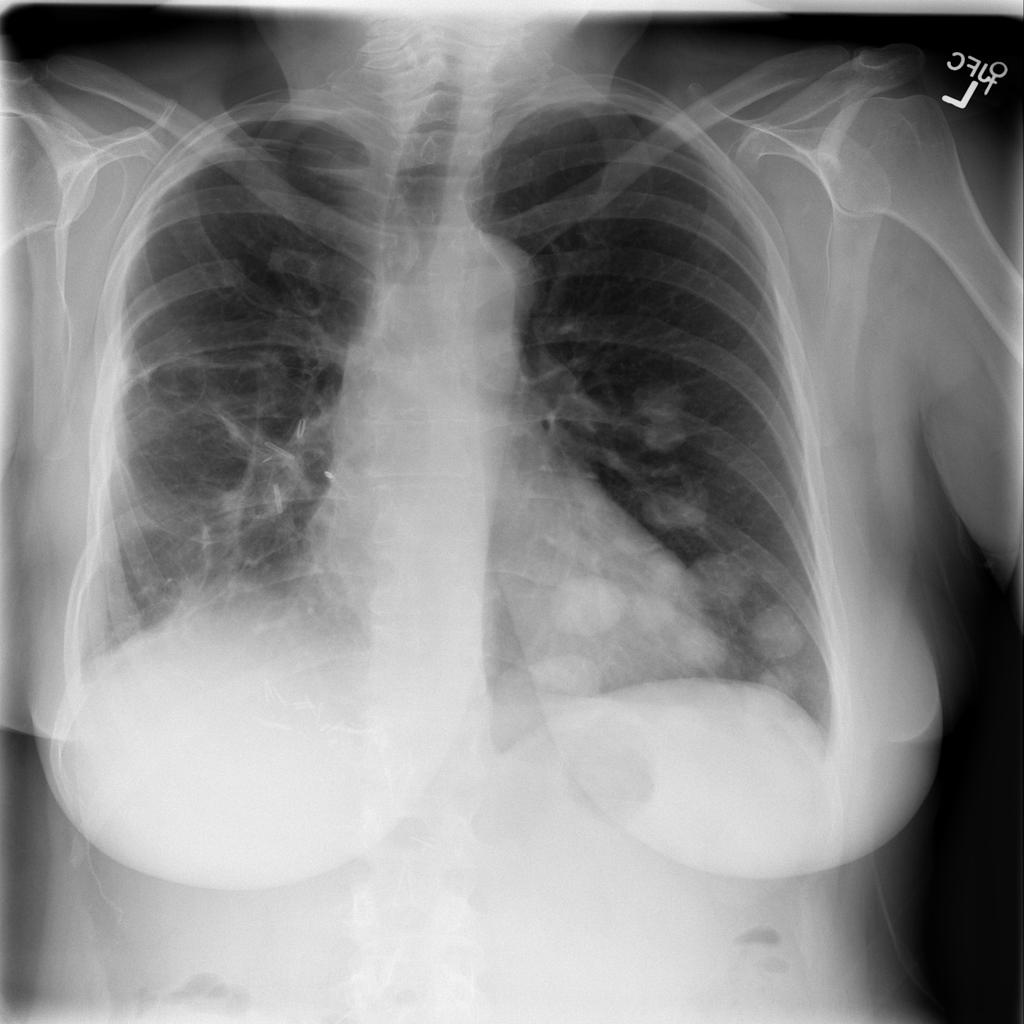nodule: (621, 364, 705, 442), (548, 566, 630, 642), (682, 540, 763, 616), (526, 643, 609, 715), (631, 474, 721, 539), (737, 598, 814, 672), (620, 556, 701, 624), (660, 618, 740, 685), (739, 649, 810, 713)
